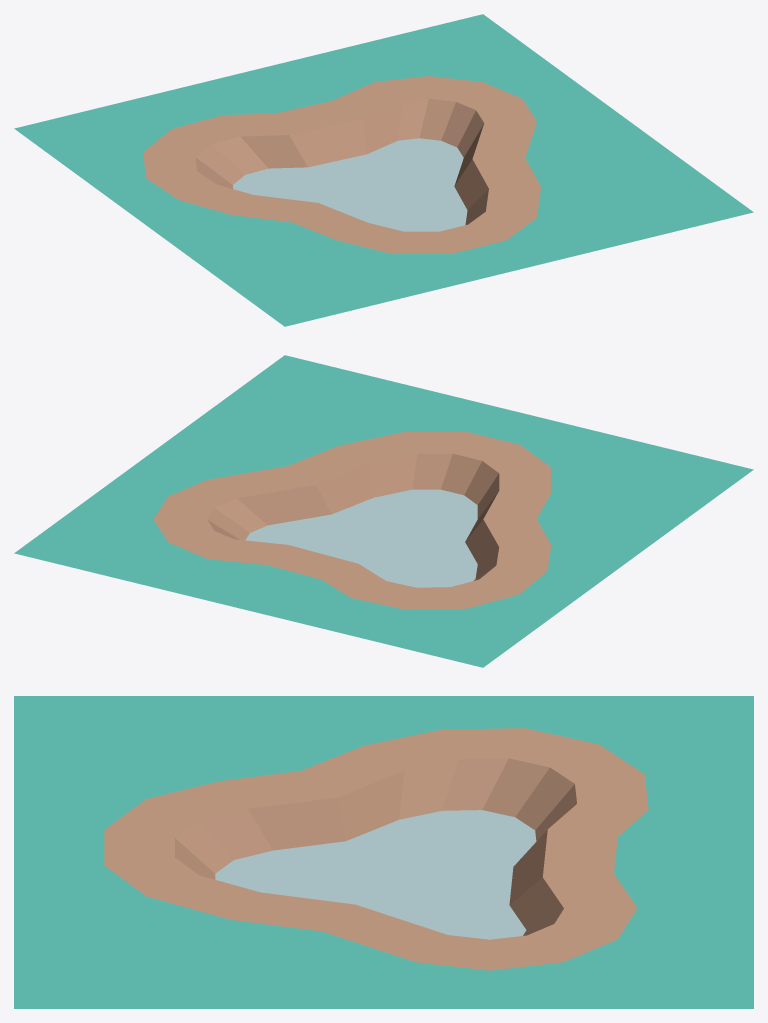
File: ground_riverTile.glb
3 views of the same model, one above another, from view 1: azimuth 30°, elevation 25°; view 2: azimuth 150°, elevation 25°; view 3: azimuth 270°, elevation 25° (orthographic). The views are drawn at different scales.
Parts seen in each view (by area): view 1: ground_riverTile; view 2: ground_riverTile; view 3: ground_riverTile.
Boxes of the visible parts, left/top/right/bottom form: ground_riverTile: left=14, top=14, right=753, bottom=326; ground_riverTile: left=14, top=355, right=753, bottom=667; ground_riverTile: left=14, top=696, right=753, bottom=1008.
Size of the model in its own units: 1 by 0.05 by 1.
